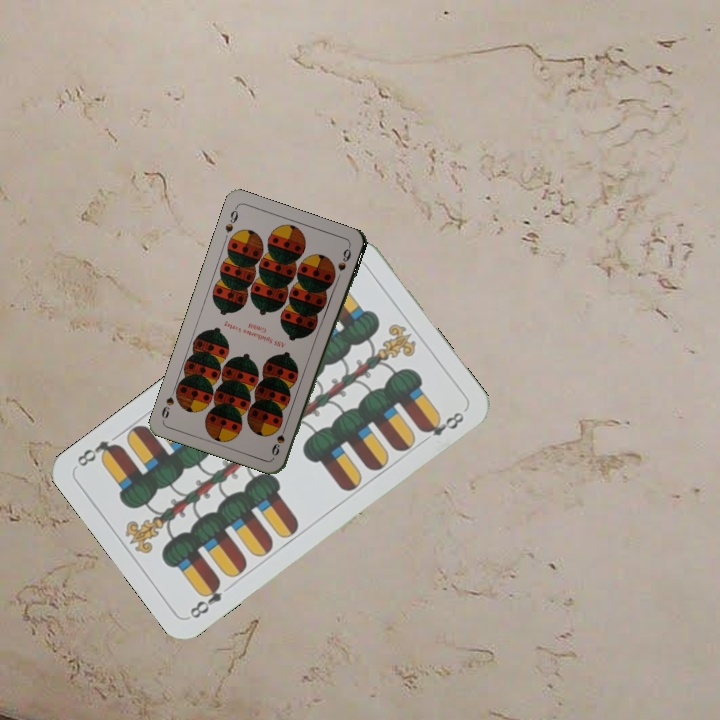E8: (186, 576, 224, 622)
S9: (269, 420, 289, 458), (221, 203, 241, 235)
